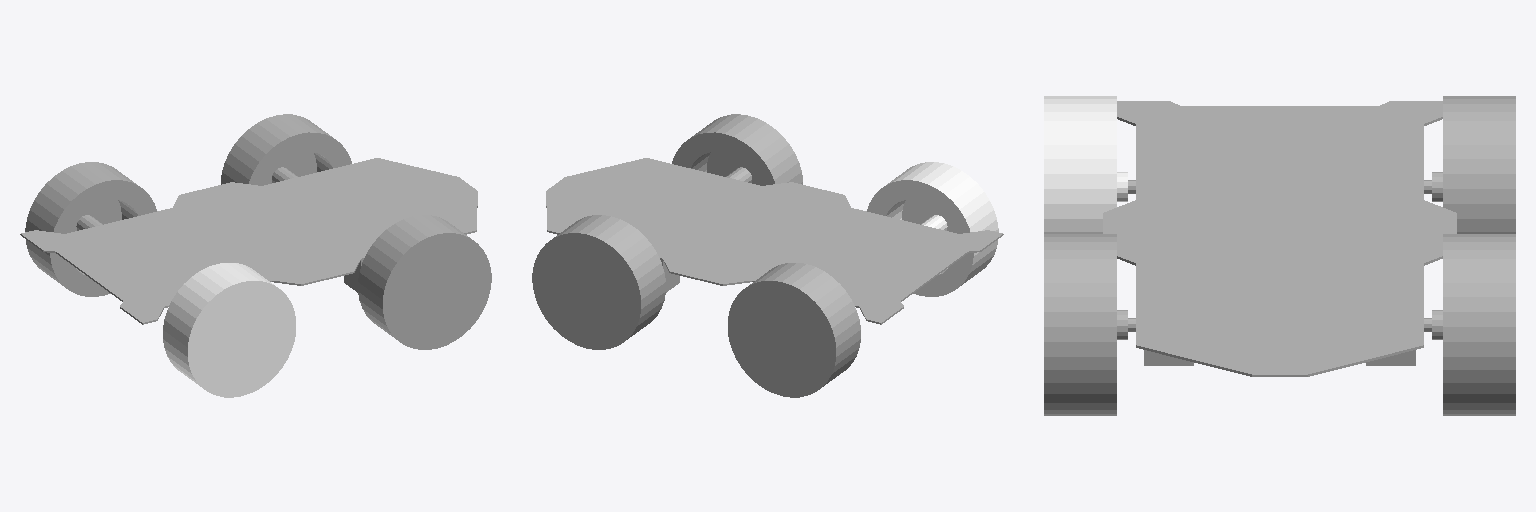
robot.urdf — raspbotsimp:
<?xml version="1.0" encoding="utf-8"?>
<!-- This URDF was automatically created by SolidWorks to URDF Exporter! Originally created by [author] ([email redacted]) 
     Commit Version: 1.6.0-4-g7f85cfe  Build Version: 1.6.7995.38578
     For more information, please see http://wiki.ros.org/sw_urdf_exporter -->
<robot
  name="raspbotsimp">
  <link
    name="base_link">
    <inertial>
      <origin
        xyz="-0.00373242974717265 -1.73472347597681E-18 -0.0085944899395812"
        rpy="0 0 0" />
      <mass
        value="0.0820193583470577" />
      <inertia
        ixx="0.000124072854427031"
        ixy="-1.0124992972901E-19"
        ixz="-1.04253387901332E-06"
        iyy="0.000265345846652801"
        iyz="6.91976463996507E-22"
        izz="0.000380290638629521" />
    </inertial>
    <visual>
      <origin
        xyz="0 0 0"
        rpy="0 0 0" />
      <geometry>
        <mesh
          filename="package://raspbotsimp/meshes/base_link.STL" />
      </geometry>
      <material
        name="">
        <color
          rgba="0.749019607843137 0.749019607843137 0.749019607843137 1" />
      </material>
    </visual>
    <collision>
      <origin
        xyz="0 0 0"
        rpy="0 0 0" />
      <geometry>
        <mesh
          filename="package://raspbotsimp/meshes/base_link.STL" />
      </geometry>
    </collision>
  </link>
  <link
    name="front_L_link">
    <inertial>
      <origin
        xyz="1.6263E-18 -6.9389E-18 0.0013527"
        rpy="0 0 0" />
      <mass
        value="0.060645" />
      <inertia
        ixx="2.4304E-05"
        ixy="8.5016E-37"
        ixz="2.8152E-22"
        iyy="2.4304E-05"
        iyz="3.9381E-21"
        izz="4.1108E-05" />
    </inertial>
    <visual>
      <origin
        xyz="0 0 0"
        rpy="0 0 0" />
      <geometry>
        <mesh
          filename="package://raspbotsimp/meshes/front_L_link.STL" />
      </geometry>
      <material
        name="">
        <color
          rgba="0.74902 0.74902 0.74902 1" />
      </material>
    </visual>
    <collision>
      <origin
        xyz="0 0 0"
        rpy="0 0 0" />
      <geometry>
        <mesh
          filename="package://raspbotsimp/meshes/front_L_link.STL" />
      </geometry>
    </collision>
  </link>
  <joint
    name="front_L_joint"
    type="continuous">
    <origin
      xyz="0.053697 0.072 -0.012"
      rpy="-1.5708 1.5708 0" />
    <parent
      link="base_link" />
    <child
      link="front_L_link" />
    <axis
      xyz="0 0 1" />
    <limit
      effort="150"
      velocity="100" />
    <dynamics
      damping="0.1"
      friction="0.1" />
  </joint>
  <link
    name="front_R_link">
    <inertial>
      <origin
        xyz="1.1926E-18 0 -0.0013527"
        rpy="0 0 0" />
      <mass
        value="0.060645" />
      <inertia
        ixx="2.4304E-05"
        ixy="8.612E-37"
        ixz="4.5669E-22"
        iyy="2.4304E-05"
        iyz="3.9381E-21"
        izz="4.1108E-05" />
    </inertial>
    <visual>
      <origin
        xyz="0 0 0"
        rpy="0 0 0" />
      <geometry>
        <mesh
          filename="package://raspbotsimp/meshes/front_R_link.STL" />
      </geometry>
      <material
        name="">
        <color
          rgba="0.74902 0.74902 0.74902 1" />
      </material>
    </visual>
    <collision>
      <origin
        xyz="0 0 0"
        rpy="0 0 0" />
      <geometry>
        <mesh
          filename="package://raspbotsimp/meshes/front_R_link.STL" />
      </geometry>
    </collision>
  </link>
  <joint
    name="front_R_joint"
    type="continuous">
    <origin
      xyz="0.053697 -0.072 -0.012"
      rpy="-1.5708 -1.5708 0" />
    <parent
      link="base_link" />
    <child
      link="front_R_link" />
    <axis
      xyz="0 0 -1" />
    <limit
      effort="150"
      velocity="100" />
    <dynamics
      damping="0.1"
      friction="0.1" />
  </joint>
  <link
    name="Rear_L_Link">
    <inertial>
      <origin
        xyz="1.0842E-18 0 0.0013527"
        rpy="0 0 0" />
      <mass
        value="0.060645" />
      <inertia
        ixx="2.4304E-05"
        ixy="-2.4517E-38"
        ixz="-4.7397E-22"
        iyy="2.4304E-05"
        iyz="-9.1363E-38"
        izz="4.1108E-05" />
    </inertial>
    <visual>
      <origin
        xyz="0 0 0"
        rpy="0 0 0" />
      <geometry>
        <mesh
          filename="package://raspbotsimp/meshes/Rear_L_Link.STL" />
      </geometry>
      <material
        name="">
        <color
          rgba="0.74902 0.74902 0.74902 1" />
      </material>
    </visual>
    <collision>
      <origin
        xyz="0 0 0"
        rpy="0 0 0" />
      <geometry>
        <mesh
          filename="package://raspbotsimp/meshes/Rear_L_Link.STL" />
      </geometry>
    </collision>
  </link>
  <joint
    name="Rear_L_joint"
    type="continuous">
    <origin
      xyz="-0.064303 0.072 -0.012"
      rpy="-1.5708 1.5708 0" />
    <parent
      link="base_link" />
    <child
      link="Rear_L_Link" />
    <axis
      xyz="0 0 1" />
    <limit
      effort="150"
      velocity="100" />
    <dynamics
      damping="0.1"
      friction="0.1" />
  </joint>
  <link
    name="Rear_R_Link">
    <inertial>
      <origin
        xyz="0 0 0"
        rpy="0 0 0" />
      <mass
        value="0.060645" />
      <inertia
        ixx="2.4304E-05"
        ixy="0"
        ixz="0"
        iyy="2.4304E-05"
        iyz="0"
        izz="4.1108E-05" />
    </inertial>
    <visual>
      <origin
        xyz="0 0 0"
        rpy="0 0 0" />
      <geometry>
        <mesh
          filename="package://raspbotsimp/meshes/Rear_R_Link.STL" />
      </geometry>
      <material
        name="">
        <color
          rgba="1 1 1 1" />
      </material>
    </visual>
    <collision>
      <origin
        xyz="0 0 0"
        rpy="0 0 0" />
      <geometry>
        <mesh
          filename="package://raspbotsimp/meshes/Rear_R_Link.STL" />
      </geometry>
    </collision>
  </link>
  <joint
    name="Rear_R_joint"
    type="continuous">
    <origin
      xyz="-0.064303 -0.072 -0.012"
      rpy="-1.5708 -1.5708 0" />
    <parent
      link="base_link" />
    <child
      link="Rear_R_Link" />
    <axis
      xyz="0 0 -1" />
    <limit
      effort="150"
      velocity="100" />
    <dynamics
      damping="0.1"
      friction="0.1" />
  </joint>
</robot>

--- Render facts (derived) ---
Views: 3 orthographic renders of the robot side by side, from view 1: azimuth 30°, elevation 25°; view 2: azimuth 150°, elevation 25°; view 3: azimuth 270°, elevation 25°.
Robot: raspbotsimp — 5 links, 4 joints (4 continuous); root link base_link; default pose: every joint at zero.
Links seen in each view (by area): view 1: base_link, front_R_link, Rear_R_Link, Rear_L_Link, front_L_link; view 2: base_link, front_L_link, Rear_L_Link, Rear_R_Link, front_R_link; view 3: base_link, front_L_link, front_R_link, Rear_L_Link, Rear_R_Link.
Boxes of the visible links, box(x1,y1,x2,y2) form: base_link: box(20, 158, 477, 324); front_R_link: box(358, 215, 491, 349); Rear_R_Link: box(163, 263, 295, 397); Rear_L_Link: box(25, 162, 156, 296); front_L_link: box(221, 114, 351, 185); base_link: box(546, 158, 1003, 324); front_L_link: box(532, 215, 665, 349); Rear_L_Link: box(728, 263, 860, 397); Rear_R_Link: box(867, 162, 998, 296); front_R_link: box(672, 114, 802, 185); base_link: box(1103, 101, 1456, 376); front_L_link: box(1432, 234, 1515, 415); front_R_link: box(1044, 234, 1127, 415); Rear_L_Link: box(1432, 96, 1515, 233); Rear_R_Link: box(1044, 96, 1127, 233).
Bounding box of the posed robot: 0.234 × 0.17 × 0.066 m (x, y, z).
Meshes: 5 distinct files referenced, 5 mesh visuals loaded (5 binary STL).